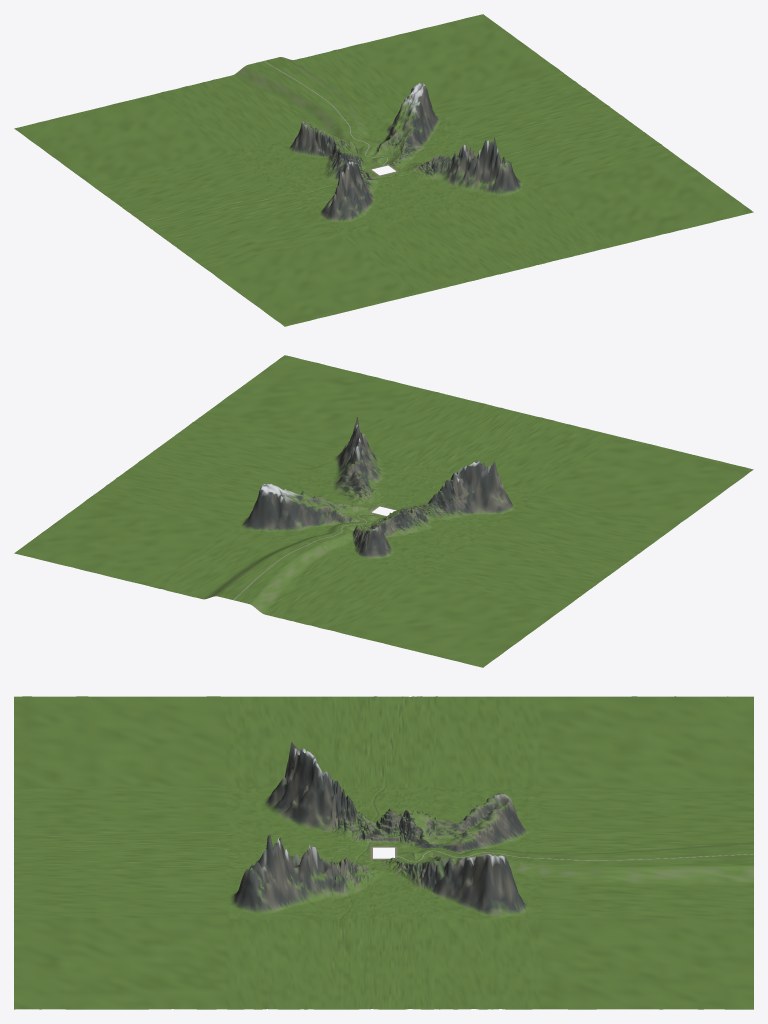
File: altai-landscape.glb
The picture shows the model from 3 angles, top to bottom: view 1: azimuth 30°, elevation 25°; view 2: azimuth 150°, elevation 25°; view 3: azimuth 270°, elevation 25°; orthographic projection. The views are drawn at different scales.
Visible parts, largest first — view 1: MountainGround; view 2: MountainGround; view 3: MountainGround.
Boxes of the visible parts, x1,y1,x2,y2 form: MountainGround: (14, 14, 753, 326); MountainGround: (14, 355, 753, 667); MountainGround: (14, 696, 753, 1009).
Size of the model in its own units: 28000 by 2747 by 28001.
